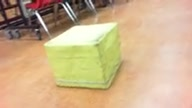cube: (43, 22, 122, 89)
